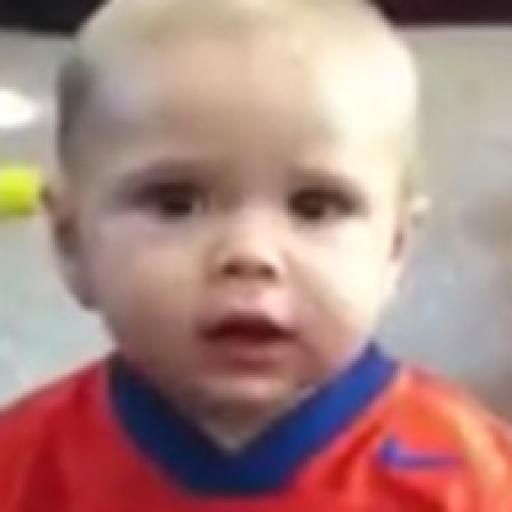Autism: (38, 25, 444, 417)
